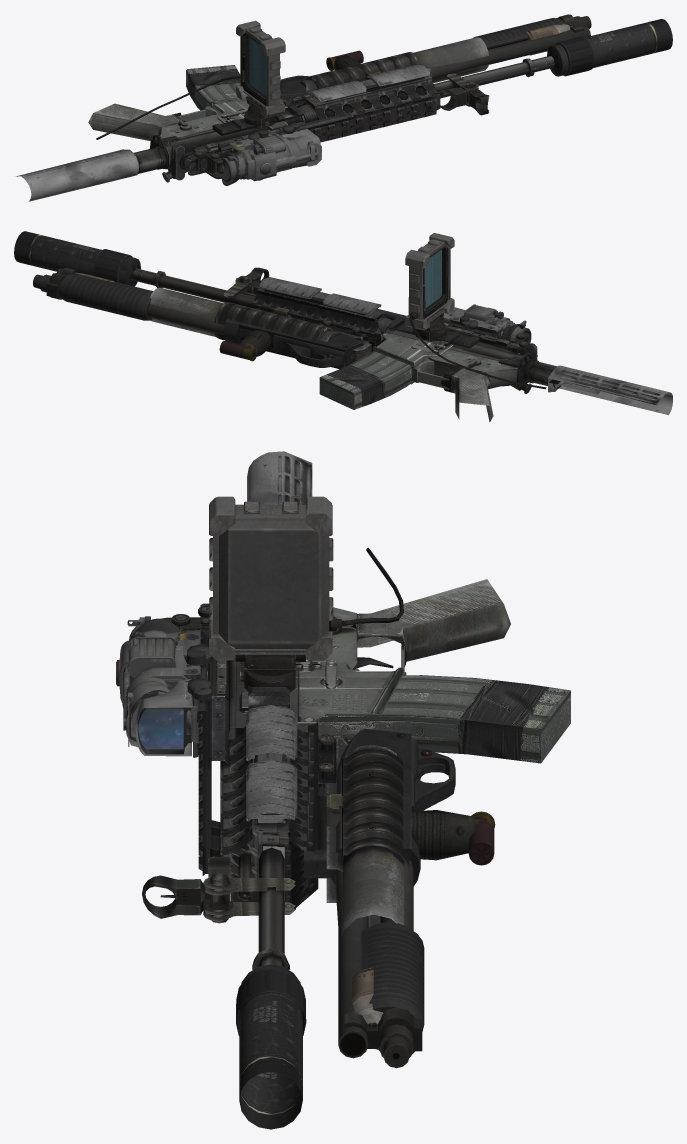
Rendered from viewmodel_m4_blue_tiger_LOD0.obj.
3 views of the same model, one above another, from view 1: azimuth 30°, elevation 25°; view 2: azimuth 150°, elevation 25°; view 3: azimuth 270°, elevation 25° (orthographic). The views are drawn at different scales.
Parts seen in each view (by area): view 1: mtl_weapon_m4_short_blue_tiger, mtl_weapon_motion_tracker_blue_tiger, mtl_weapon_shotgun_masterkey, mtl_weapon_m203, mtl_weapon_suppressor_b, mtl_weapon_acog_2_blue_tiger, mtl_weapon_thermal_sight_2_blue_tiger, mtl_weapon_m4_short_sight_off, mtl_weapon_m4_short_sight_on, mtl_motion_tracker_screen, mtl_weapon_eotech_2_blue_tiger, mtl_weapon_red_dot_sight_blue_tiger; view 2: mtl_weapon_m4_short_blue_tiger, mtl_weapon_shotgun_masterkey, mtl_weapon_m203, mtl_weapon_motion_tracker_blue_tiger, mtl_weapon_suppressor_b, mtl_weapon_thermal_sight_2_blue_tiger, mtl_motion_tracker_screen, mtl_weapon_acog_2_blue_tiger, mtl_weapon_m4_foregrip, mtl_weapon_eotech_2_blue_tiger, mtl_weapon_m4_short_sight_on; view 3: mtl_weapon_m4_short_blue_tiger, mtl_weapon_motion_tracker_blue_tiger, mtl_weapon_shotgun_masterkey, mtl_weapon_m203, mtl_weapon_suppressor_b, mtl_weapon_thermal_sight_2_blue_tiger, mtl_weapon_m4_foregrip, mtl_weapon_m4_short_sight_on, mtl_weapon_red_dot_sight_blue_tiger, mtl_weapon_acog_2_blue_tiger, mtl_weapon_reflex_lens, mtl_weapon_eotech_2_blue_tiger.
Part boxes in pixels (x1,y1,x2,y2): mtl_weapon_m4_short_blue_tiger: (16, 56, 554, 201); mtl_weapon_motion_tracker_blue_tiger: (96, 20, 303, 139); mtl_weapon_shotgun_masterkey: (280, 14, 591, 99); mtl_weapon_m203: (280, 24, 570, 105); mtl_weapon_suppressor_b: (547, 19, 672, 76); mtl_weapon_acog_2_blue_tiger: (220, 125, 319, 182); mtl_weapon_thermal_sight_2_blue_tiger: (222, 130, 321, 185); mtl_weapon_m4_short_sight_off: (186, 87, 467, 175); mtl_weapon_m4_short_sight_on: (203, 90, 489, 179); mtl_motion_tracker_screen: (249, 38, 266, 96); mtl_weapon_eotech_2_blue_tiger: (229, 132, 289, 181); mtl_weapon_red_dot_sight_blue_tiger: (254, 123, 320, 145); mtl_weapon_m4_short_blue_tiger: (132, 268, 672, 422); mtl_weapon_shotgun_masterkey: (33, 267, 364, 369); mtl_weapon_m203: (75, 273, 371, 362); mtl_weapon_motion_tracker_blue_tiger: (387, 233, 546, 389); mtl_weapon_suppressor_b: (14, 231, 140, 286); mtl_weapon_thermal_sight_2_blue_tiger: (449, 304, 519, 341); mtl_motion_tracker_screen: (425, 249, 441, 307); mtl_weapon_acog_2_blue_tiger: (441, 307, 531, 343); mtl_weapon_m4_foregrip: (238, 313, 291, 356); mtl_weapon_eotech_2_blue_tiger: (448, 317, 509, 337); mtl_weapon_m4_short_sight_on: (246, 267, 529, 344); mtl_weapon_m4_short_blue_tiger: (198, 451, 570, 969); mtl_weapon_motion_tracker_blue_tiger: (209, 496, 403, 710); mtl_weapon_shotgun_masterkey: (304, 728, 495, 1068); mtl_weapon_m203: (318, 730, 409, 1024); mtl_weapon_suppressor_b: (236, 964, 306, 1129); mtl_weapon_thermal_sight_2_blue_tiger: (122, 618, 205, 746); mtl_weapon_m4_foregrip: (326, 807, 478, 860); mtl_weapon_m4_short_sight_on: (142, 614, 227, 918); mtl_weapon_red_dot_sight_blue_tiger: (135, 651, 212, 757); mtl_weapon_acog_2_blue_tiger: (116, 616, 210, 747); mtl_weapon_reflex_lens: (137, 709, 183, 749); mtl_weapon_eotech_2_blue_tiger: (119, 630, 206, 722).
Bounding box in the file's own units: 96.18 × 17.99 × 29.58.
